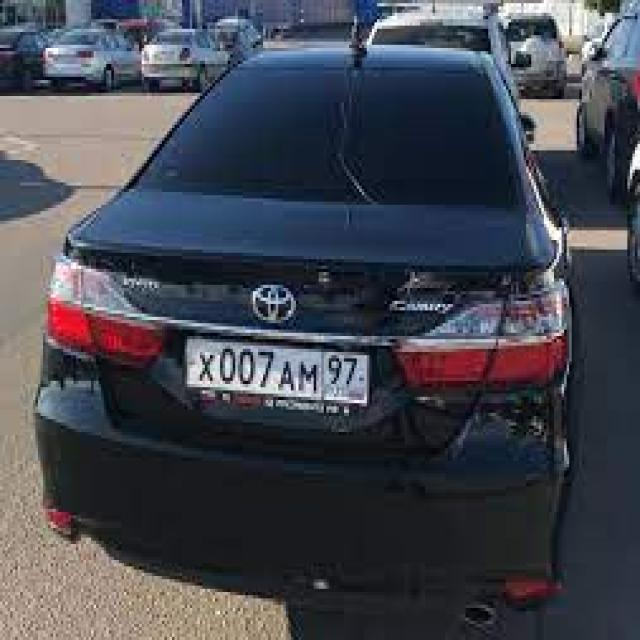number-plates: (184, 333, 370, 419)
